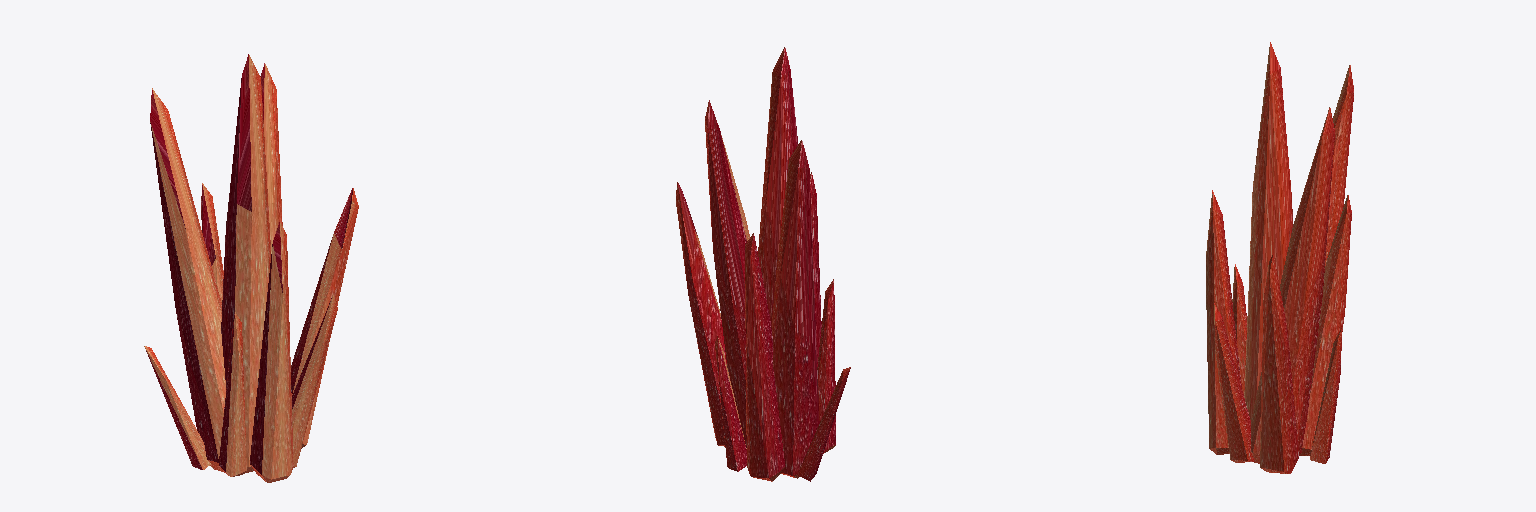
3 renders of one model, left to right at view 1: azimuth 30°, elevation 25°; view 2: azimuth 150°, elevation 25°; view 3: azimuth 270°, elevation 25°, orthographic.
Parts seen in each view (by area): view 1: Coral; view 2: Coral; view 3: Coral.
Boxes of the visible parts, box(x1,y1,x2,y2) form: Coral: box(144, 54, 358, 482); Coral: box(676, 47, 850, 481); Coral: box(1206, 42, 1353, 473).
Bounding box in the file's own units: 1.77 × 3.61 × 1.16.
Materials: 1 (1 with a texture image).